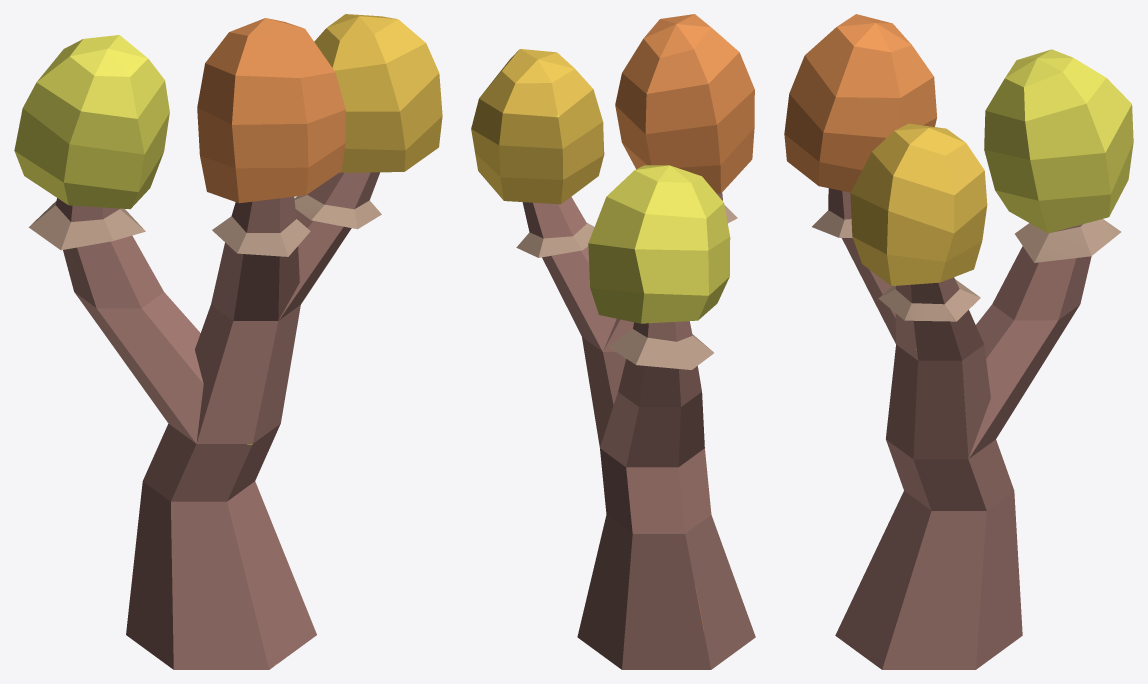
Rendered from mushroom02.gltf.
3 views of the same model, side by side, from view 1: azimuth 30°, elevation 25°; view 2: azimuth 150°, elevation 25°; view 3: azimuth 270°, elevation 25° (orthographic). The views are drawn at different scales.
Visible parts, largest first — view 1: Cone.004, Sphere.001, Sphere.002, Sphere, Circle.001, Circle, Circle.003; view 2: Cone.004, Sphere.002, Sphere.001, Sphere, Circle.001, Circle.003; view 3: Cone.004, Sphere.002, Sphere, Sphere.001, Circle.001, Circle.003, Circle.
Part boxes in pixels (box(x1,y1,x2,y2)): Cone.004: box(55, 172, 379, 669); Sphere.001: box(197, 18, 345, 203); Sphere.002: box(14, 35, 169, 209); Sphere: box(314, 14, 442, 172); Circle.001: box(28, 201, 145, 250); Circle: box(212, 216, 310, 256); Circle.003: box(294, 194, 381, 229); Cone.004: box(522, 193, 755, 669); Sphere.002: box(588, 165, 730, 323); Sphere.001: box(615, 14, 754, 193); Sphere: box(471, 49, 604, 204); Circle.001: box(608, 329, 713, 369); Circle.003: box(516, 223, 594, 257); Cone.004: box(828, 188, 1091, 669); Sphere.002: box(984, 49, 1133, 233); Sphere: box(850, 123, 987, 285); Sphere.001: box(784, 14, 936, 192); Circle.001: box(1015, 219, 1120, 262); Circle.003: box(878, 279, 980, 321); Circle: box(812, 210, 852, 237).
Size of the model in its own units: 6.69 by 12.42 by 6.33.
1 material, 1 textured.
